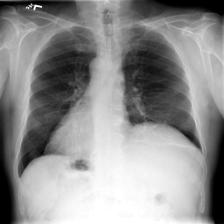normal: (15, 24, 204, 180)
